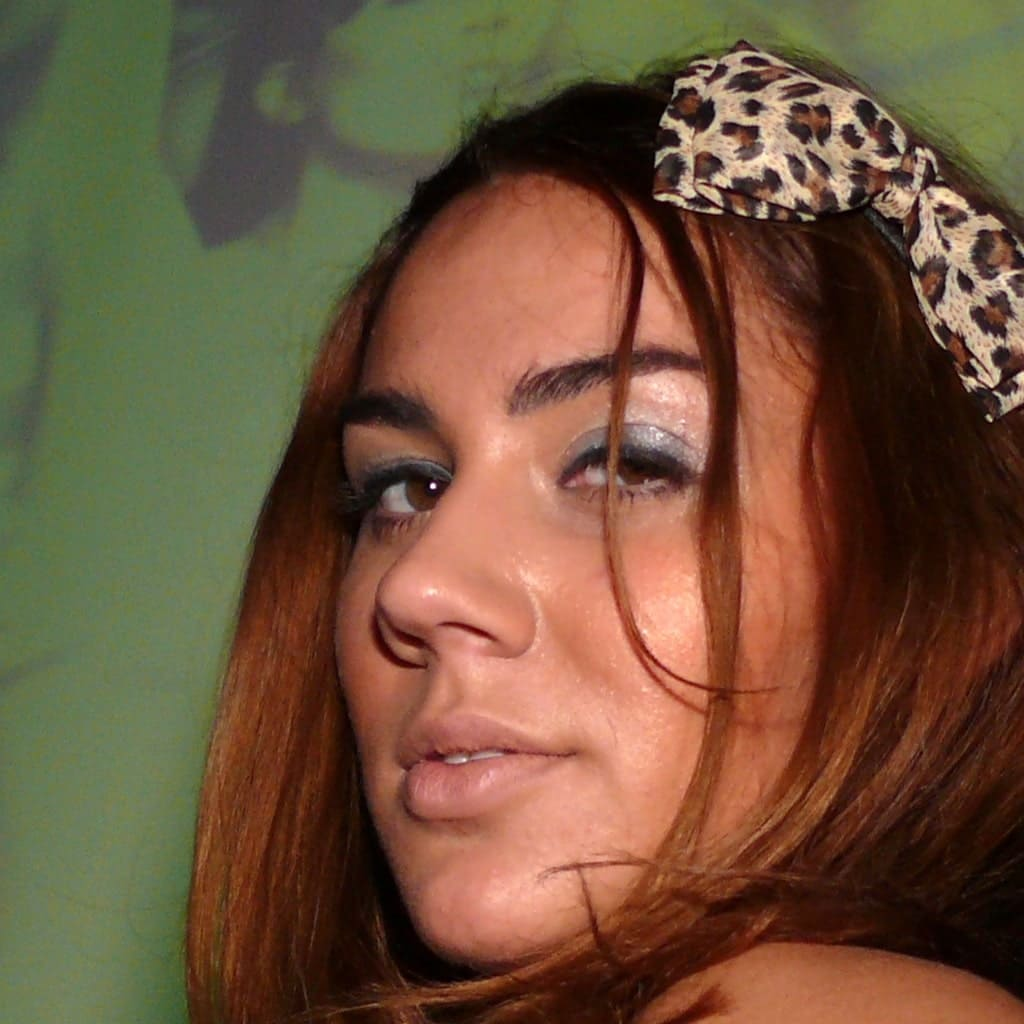without_mask: (345, 177, 836, 949)
